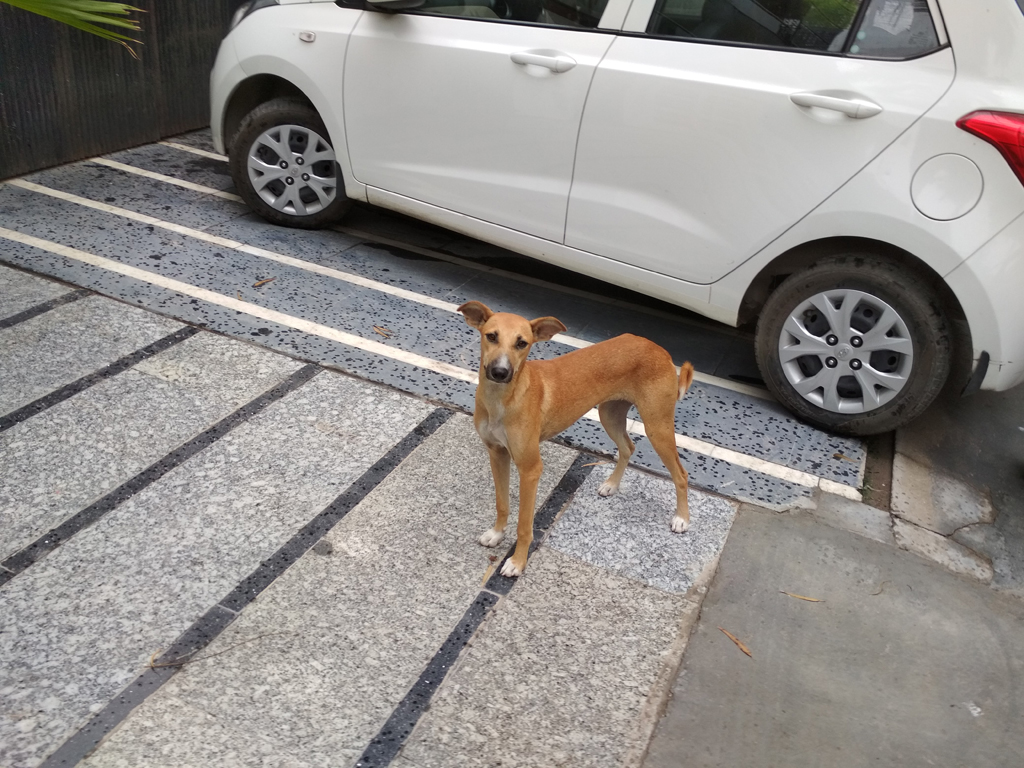dog: (458, 298, 697, 578)
